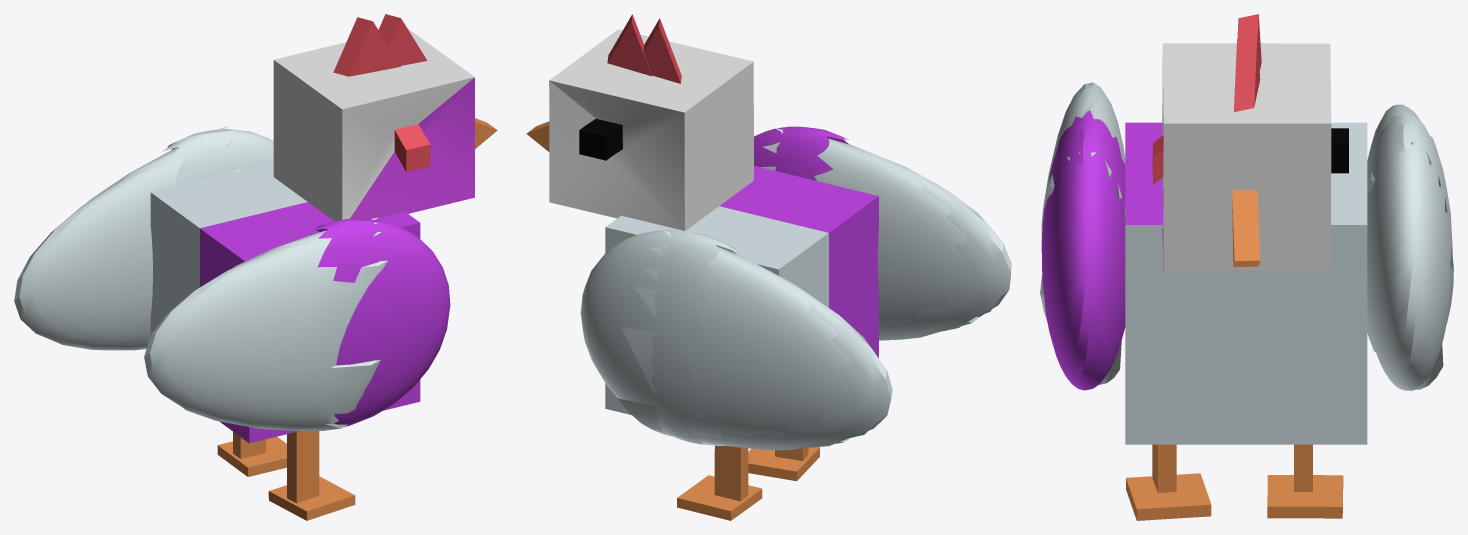
The model's file is BothChicken.fbx.
3 views of the same model, side by side, from view 1: azimuth 30°, elevation 25°; view 2: azimuth 150°, elevation 25°; view 3: azimuth 270°, elevation 25° (orthographic). The views are drawn at different scales.
Visible parts, largest first — view 1: Right Wing, Head, Left Wing, Body, Right Leg, Left Leg; view 2: Left Wing, Head, Right Wing, Body, Left Leg, Right Leg; view 3: Body, Head, Right Wing, Left Wing, Right Leg, Left Leg.
Part boxes in pixels (box(x1,y1,x2,y2)): Right Wing: box(144, 217, 450, 431); Head: box(273, 14, 497, 221); Left Wing: box(14, 126, 273, 350); Body: box(150, 162, 420, 443); Right Leg: box(268, 431, 355, 520); Left Leg: box(217, 432, 286, 476); Left Wing: box(580, 229, 892, 450); Head: box(526, 14, 753, 230); Right Wing: box(754, 126, 1011, 340); Body: box(605, 165, 878, 450); Left Leg: box(677, 445, 762, 520); Right Leg: box(748, 447, 819, 481); Body: box(1125, 122, 1367, 444); Head: box(1152, 14, 1348, 271); Right Wing: box(1040, 82, 1125, 390); Left Wing: box(1367, 104, 1453, 390); Right Leg: box(1126, 444, 1211, 520); Left Leg: box(1267, 444, 1343, 518).
Bounding box in the file's own units: 4.3 × 4.33 × 3.02.
